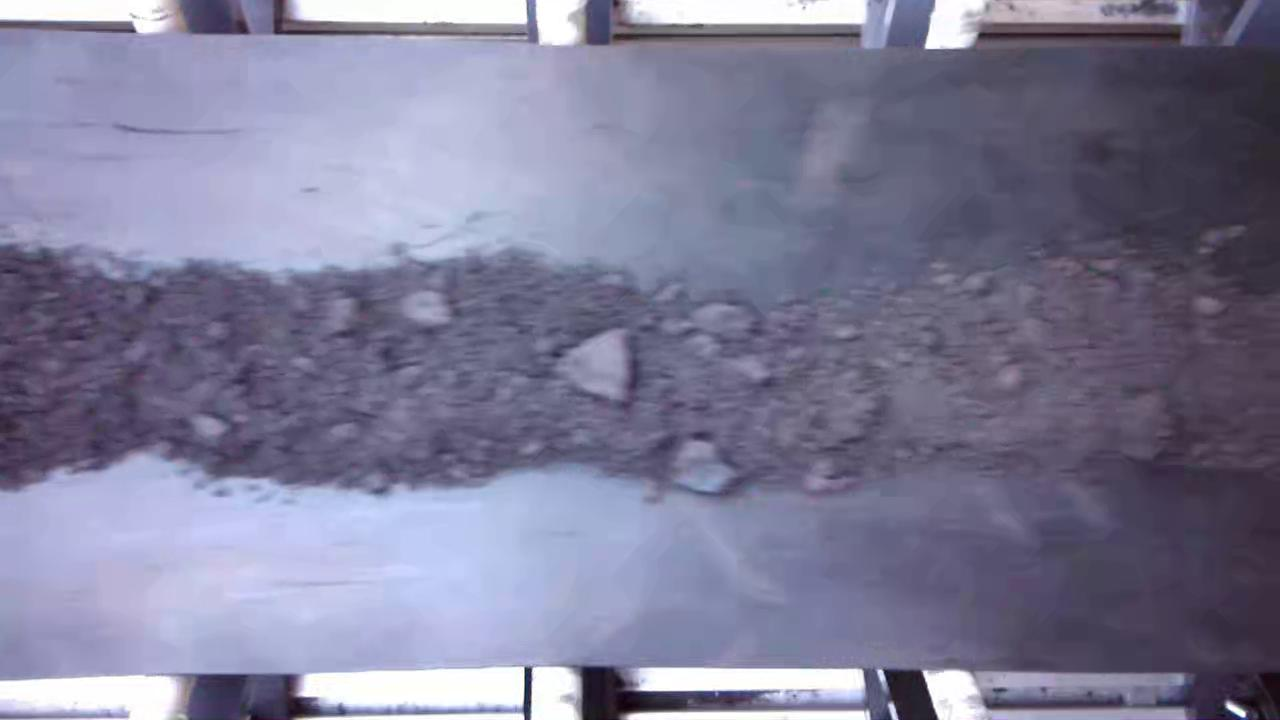conveyor: (0, 48, 1280, 668)
